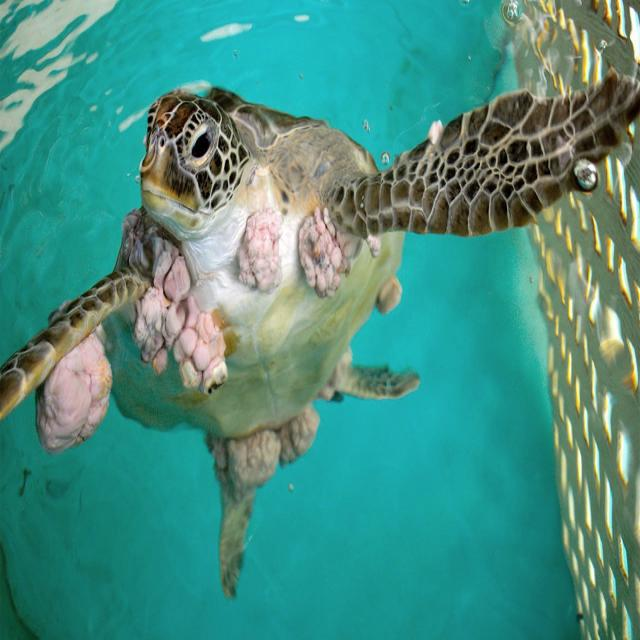turtle: (0, 74, 640, 596)
